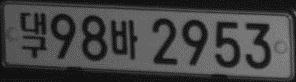2: (152, 18, 178, 64)
3: (245, 22, 271, 69)
5: (213, 21, 241, 68)
8: (81, 15, 108, 61)
9: (181, 18, 209, 65), (50, 12, 76, 59)
대구_V: (19, 12, 47, 58)
바: (110, 19, 137, 59)
